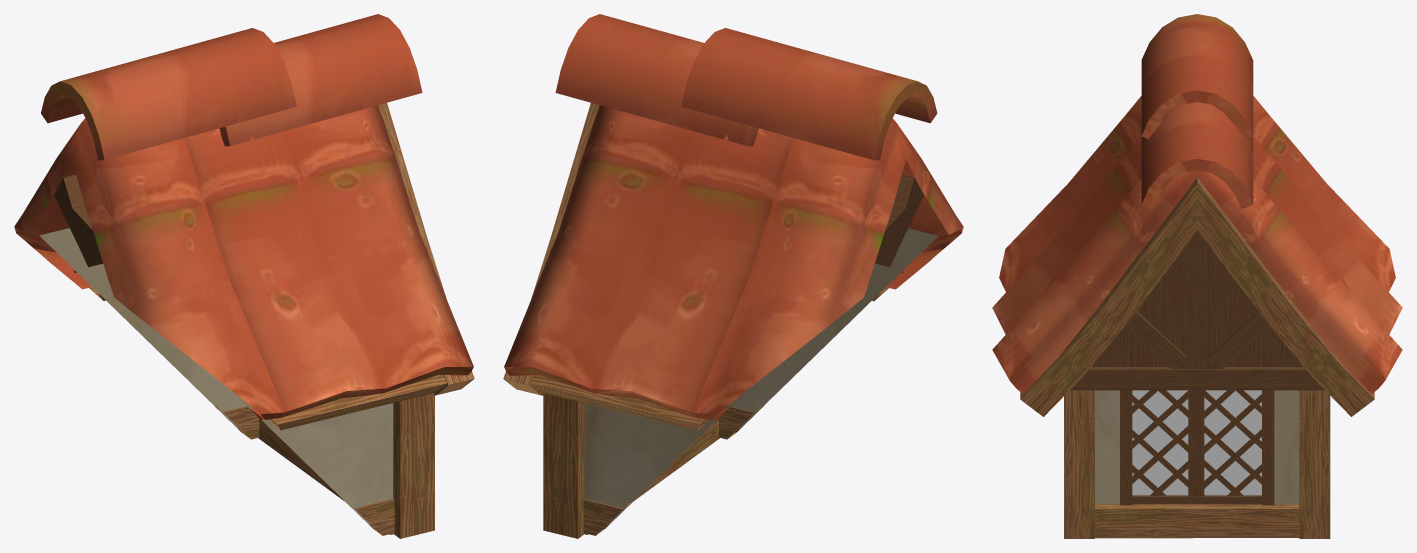
The model's file is roof-qm-roofdormerroundtile.glb.
3 renders of one model, left to right at view 1: azimuth 30°, elevation 25°; view 2: azimuth 150°, elevation 25°; view 3: azimuth 270°, elevation 25°, orthographic. The views are drawn at different scales.
Parts seen in each view (by area): view 1: Cube_197; view 2: Cube_197; view 3: Cube_197.
Boxes of the visible parts, x1=… form: Cube_197: x1=14, y1=14, x2=474, y2=538; Cube_197: x1=503, y1=14, x2=963, y2=538; Cube_197: x1=992, y1=14, x2=1402, y2=538.
Size of the model in its own units: 1.97 by 2.67 by 2.44.
4 materials, 3 textured.
